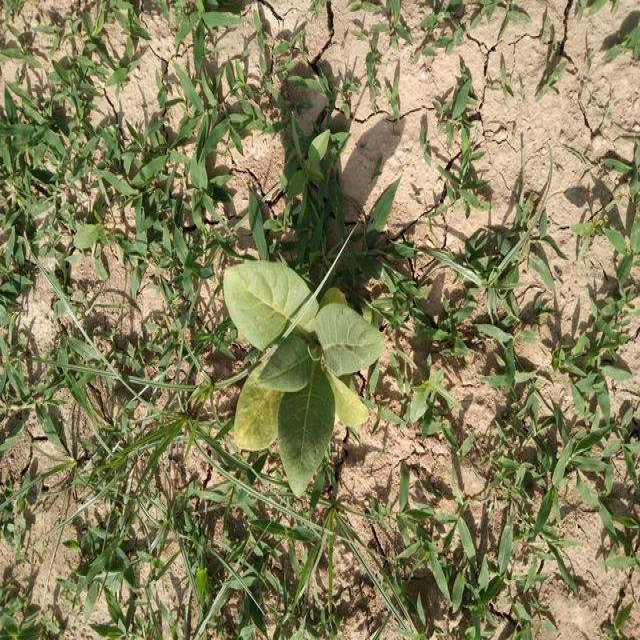crop: (206, 245, 392, 508)
